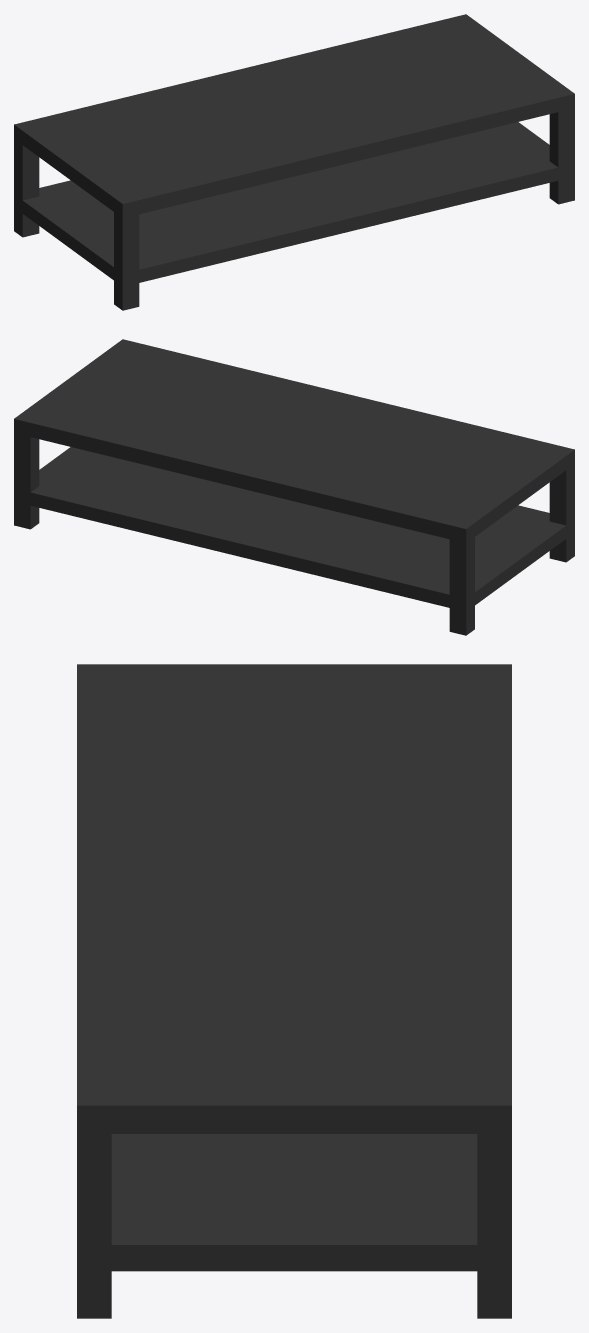
The model's file is SM_CoffeeTable.FBX.
3 views of the same model, one above another, from view 1: azimuth 30°, elevation 25°; view 2: azimuth 150°, elevation 25°; view 3: azimuth 270°, elevation 25° (orthographic). The views are drawn at different scales.
Visible parts, largest first — view 1: coffeetable001; view 2: coffeetable001; view 3: coffeetable001.
Boxes of the visible parts, left/top/right/bottom form: coffeetable001: left=14, top=14, right=574, bottom=310; coffeetable001: left=14, top=339, right=574, bottom=635; coffeetable001: left=77, top=664, right=511, bottom=1318.
Size of the model in its own units: 70.45 by 15.88 by 29.35.
